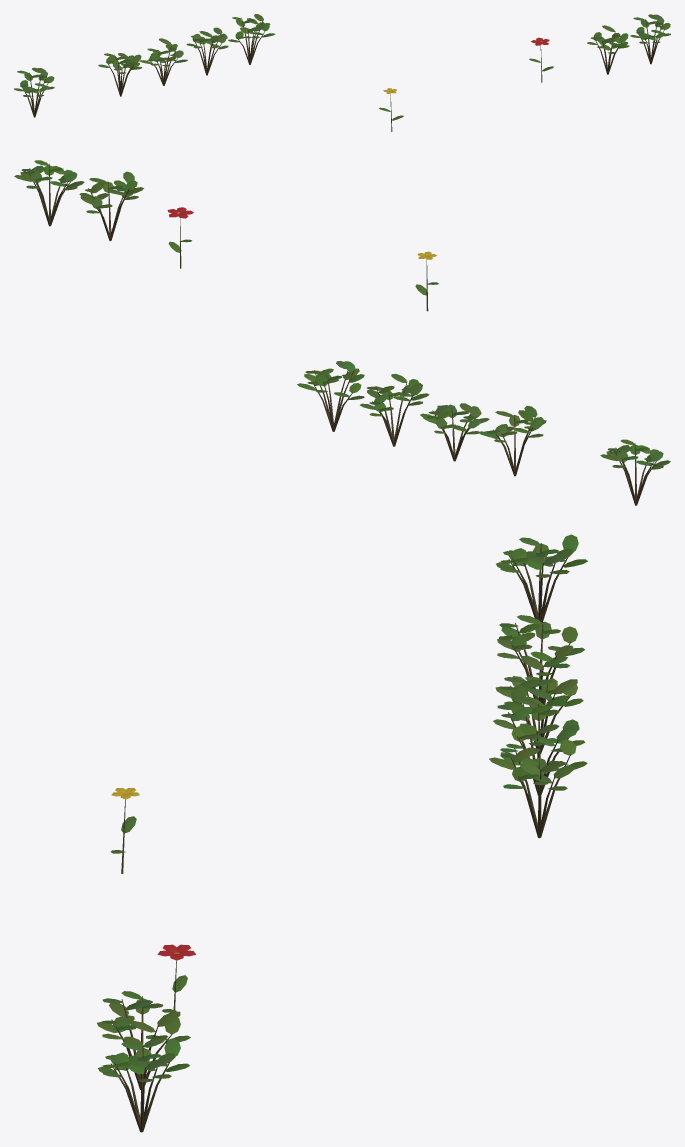
The picture shows the model from 3 angles, top to bottom: view 1: azimuth 30°, elevation 25°; view 2: azimuth 150°, elevation 25°; view 3: azimuth 270°, elevation 25°; orthographic projection. The views are drawn at different scales.
Visible parts, largest first — view 1: GROUND_FLORA_s_-4_2; view 2: GROUND_FLORA_s_-4_2; view 3: GROUND_FLORA_s_-4_2.
Part boxes in pixels (x1,y1,x2,y2): GROUND_FLORA_s_-4_2: (14,14,670,131); GROUND_FLORA_s_-4_2: (14,160,670,505); GROUND_FLORA_s_-4_2: (97,534,587,1132).
Bounding box in the file's own units: 12.93 × 0.9729 × 4.94.
